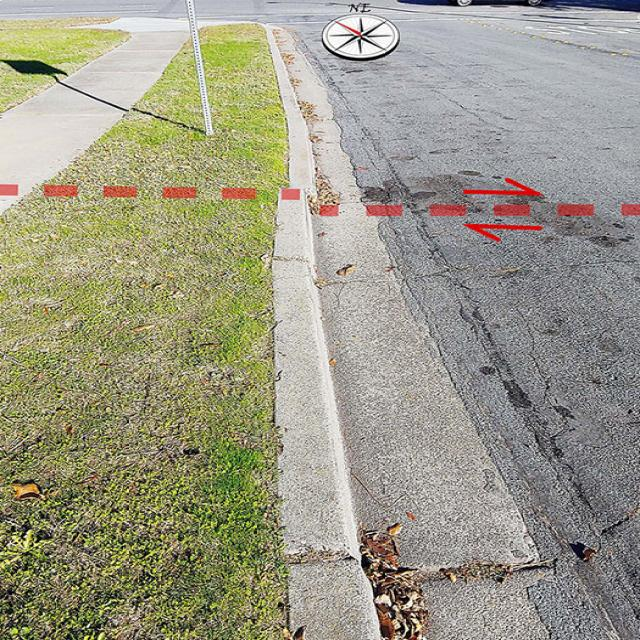Pothole: (122, 33, 640, 640)
